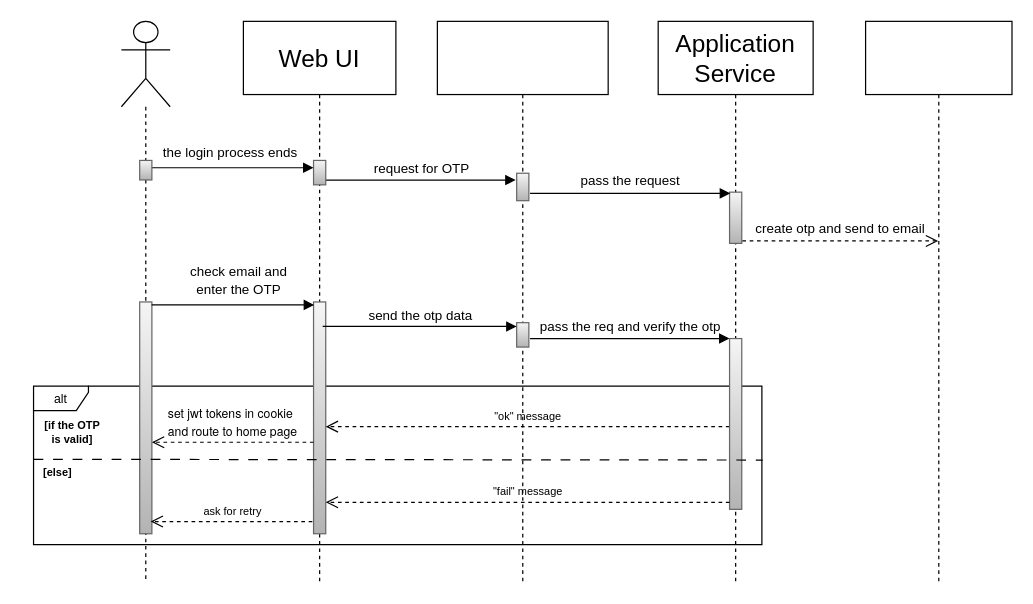
Image size: 1033x604. Some labels were removed from this diagram. Each missing label, with the box of its shape:
Email: (864, 20, 1012, 583)
Middleware: (436, 20, 608, 583)
